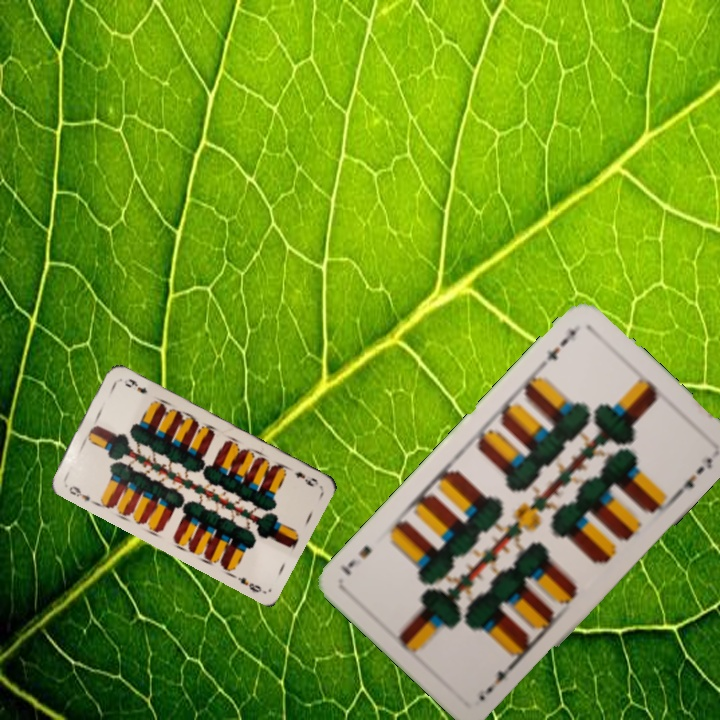E7: (481, 657, 519, 697), (542, 324, 579, 363)
E9: (65, 481, 98, 507), (291, 467, 321, 489)
